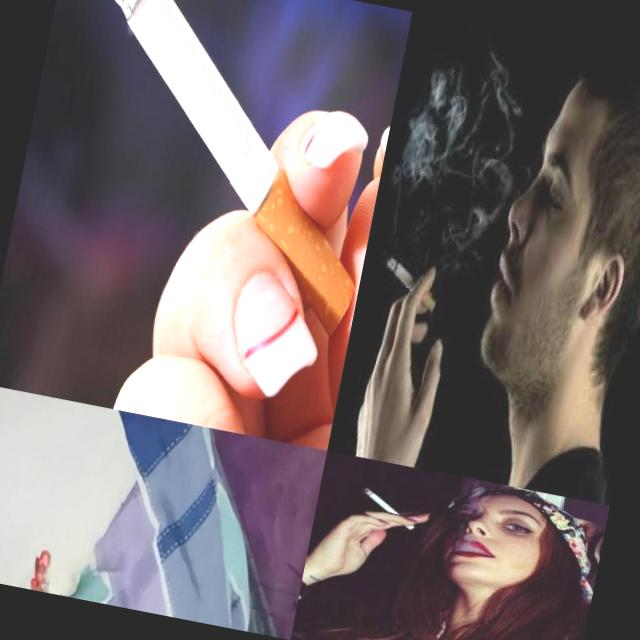smoke: (17, 0, 411, 341), (380, 256, 443, 314), (350, 484, 420, 532), (29, 546, 73, 596)
